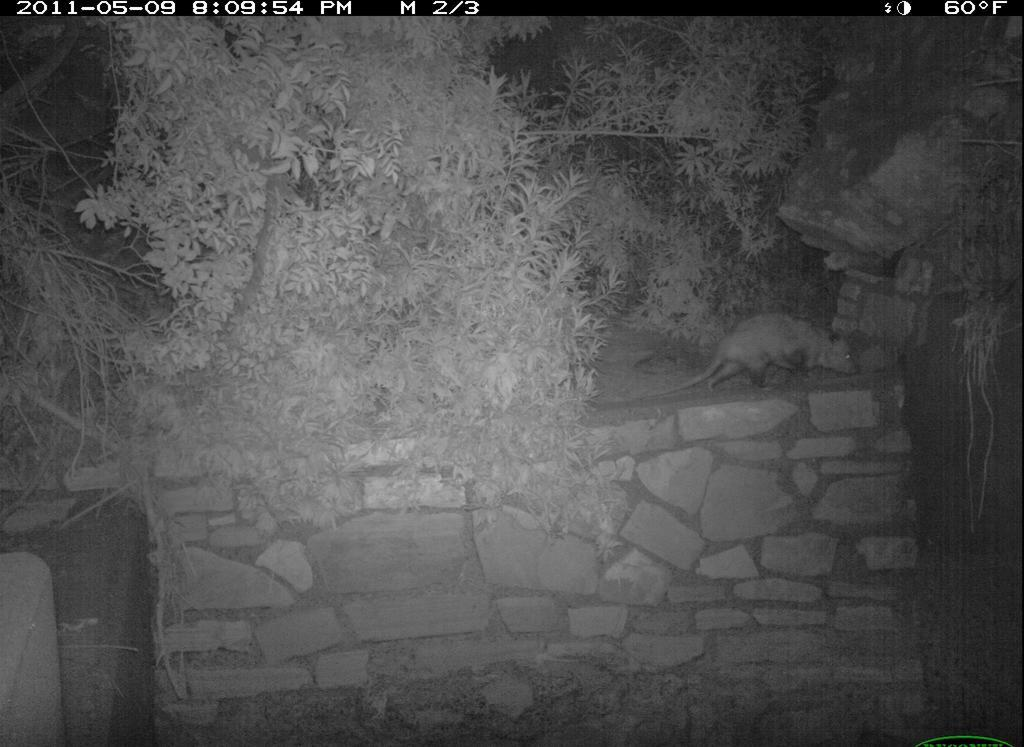opossum: (651, 303, 866, 404)
